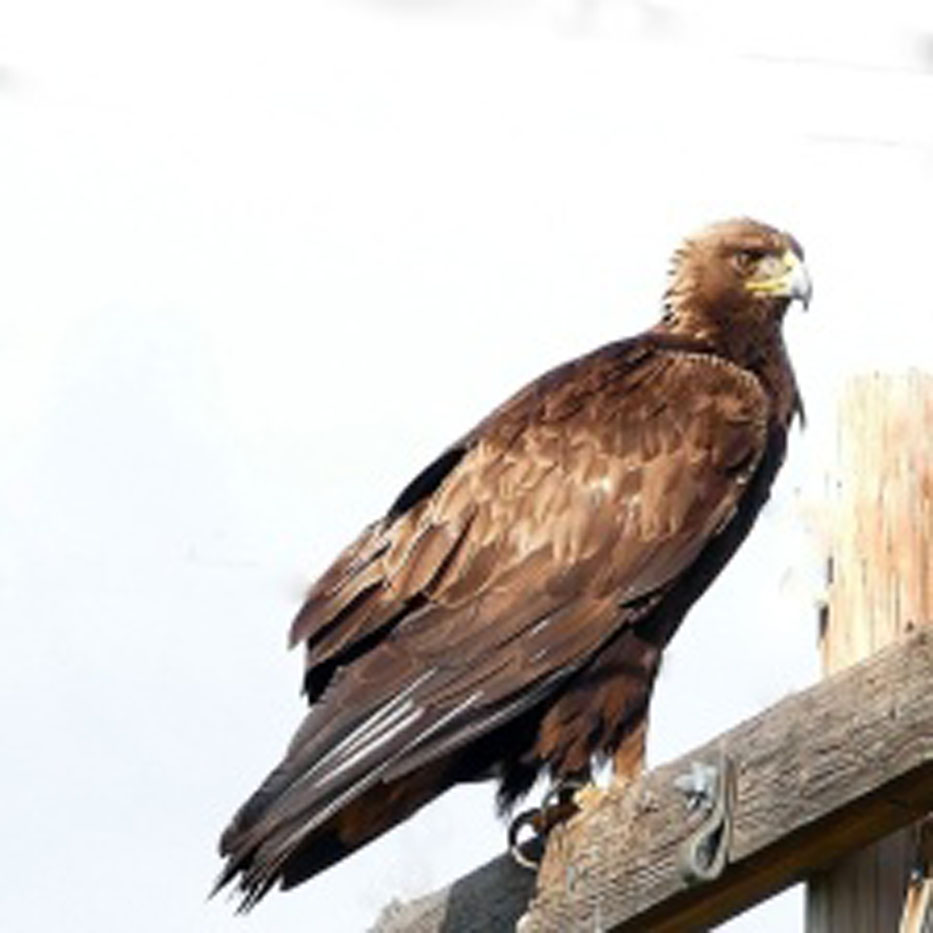Pengoyak Daging: (770, 251, 830, 322)
